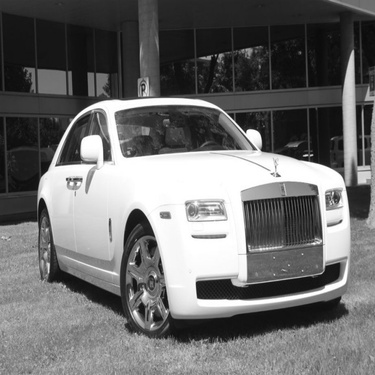car: (31, 83, 356, 344), (327, 131, 370, 172)
